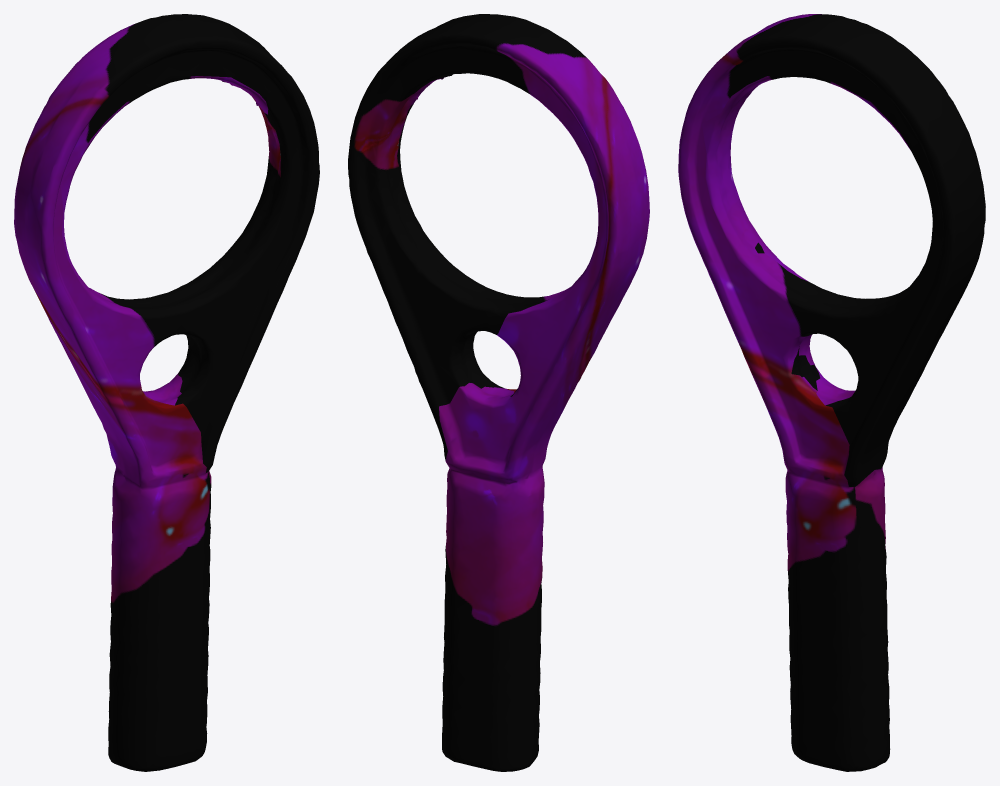
The picture shows the model from 3 angles, left to right: view 1: azimuth 30°, elevation 25°; view 2: azimuth 150°, elevation 25°; view 3: azimuth 330°, elevation 25°; orthographic projection.
Parts seen in each view (by area): view 1: model.023; view 2: model.023; view 3: model.023.
Boxes of the visible parts, x1,y1,x2,y2 form: model.023: (14, 14, 319, 771); model.023: (348, 14, 649, 771); model.023: (678, 14, 985, 771).
Size of the model in its own units: 0.0604 by 0.1518 by 0.017.
